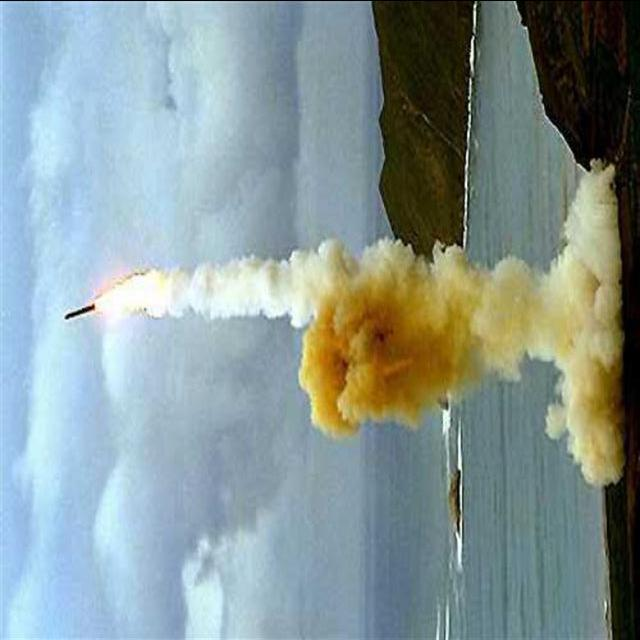missile: (53, 297, 107, 325)
